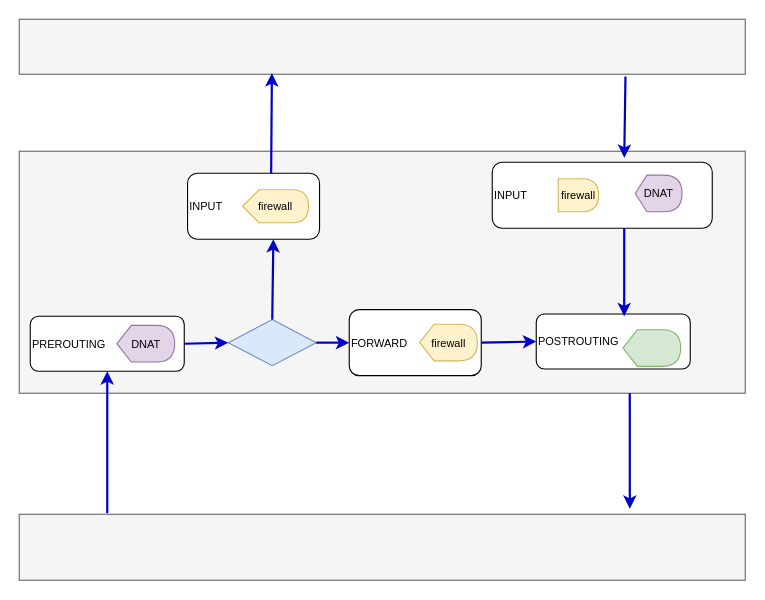
This 765x600 diagram has some shape labels left out. The centre of each missing label's shape, as x and y in pixels:
IPIsLocal？: the point at 271,342
SNAT: the point at 651,347
传输层: the point at 381,46
链路层: the point at 381,546
